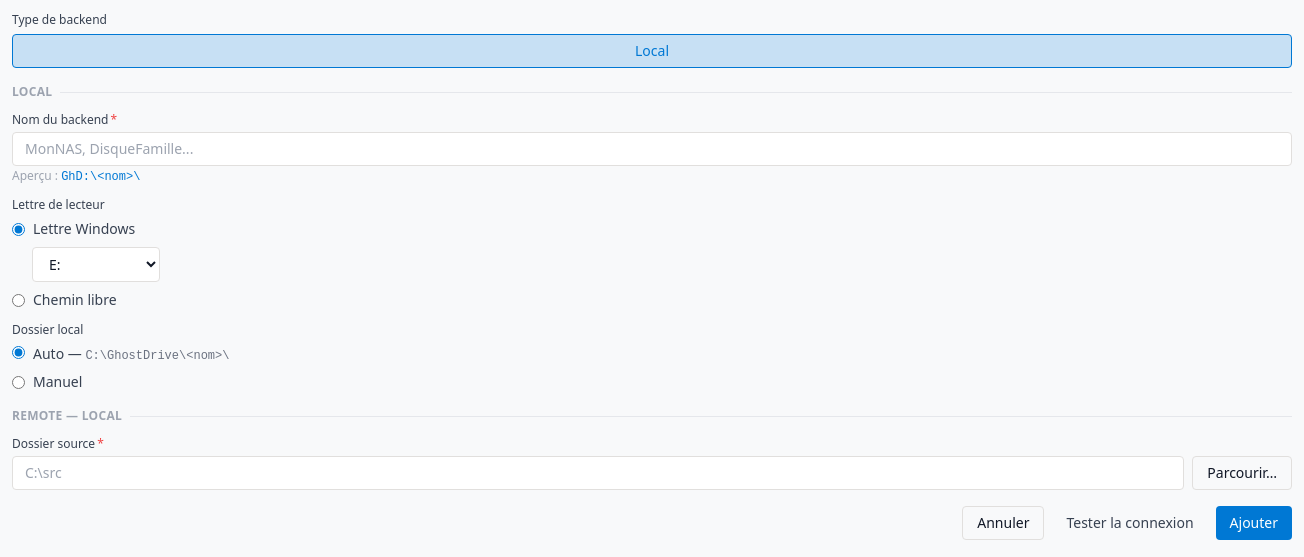
it: SyncPointForm — sélecteur mountPoint (#88) › affiche le sélecteur de chemin libre (mode path)
// Sélectionner le mode "Chemin libre"
Click the radio button showing "path".
click(18, 300)  # box [12, 294, 25, 306]
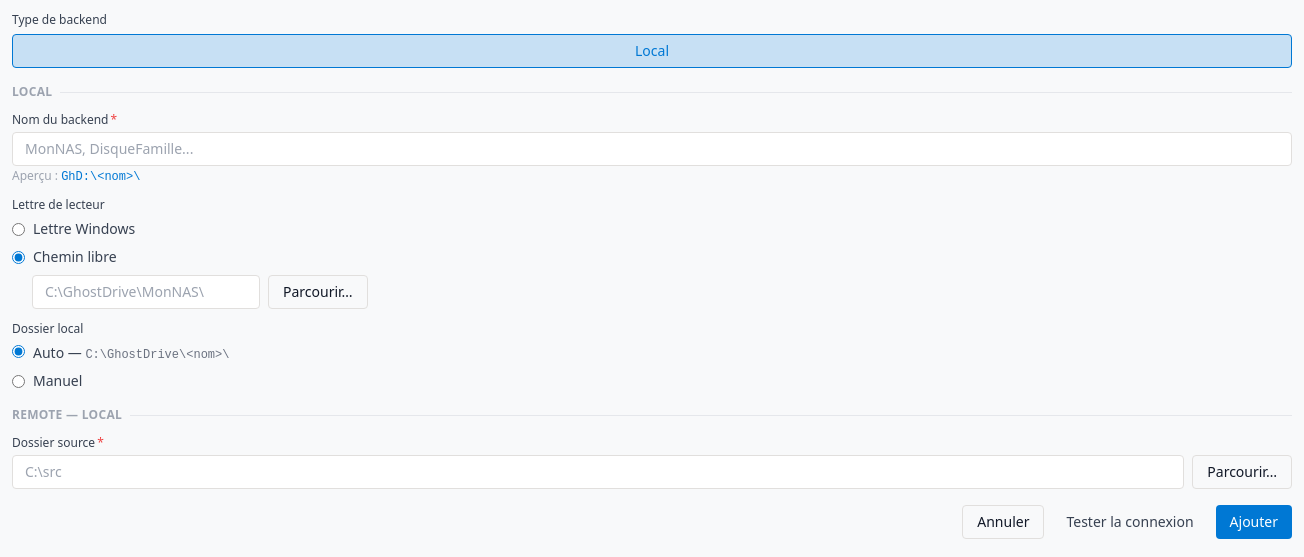
expect the field named "Chemin du point de montage" is shown: met, box [32, 275, 260, 309]
